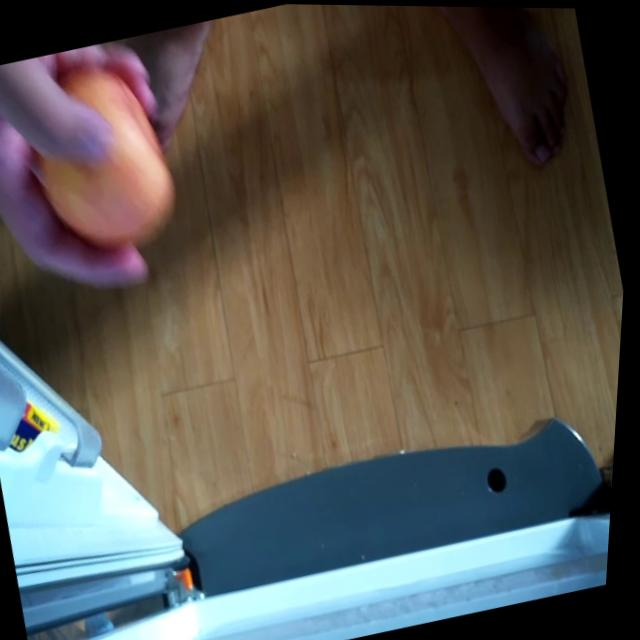apple: (11, 59, 193, 263)
